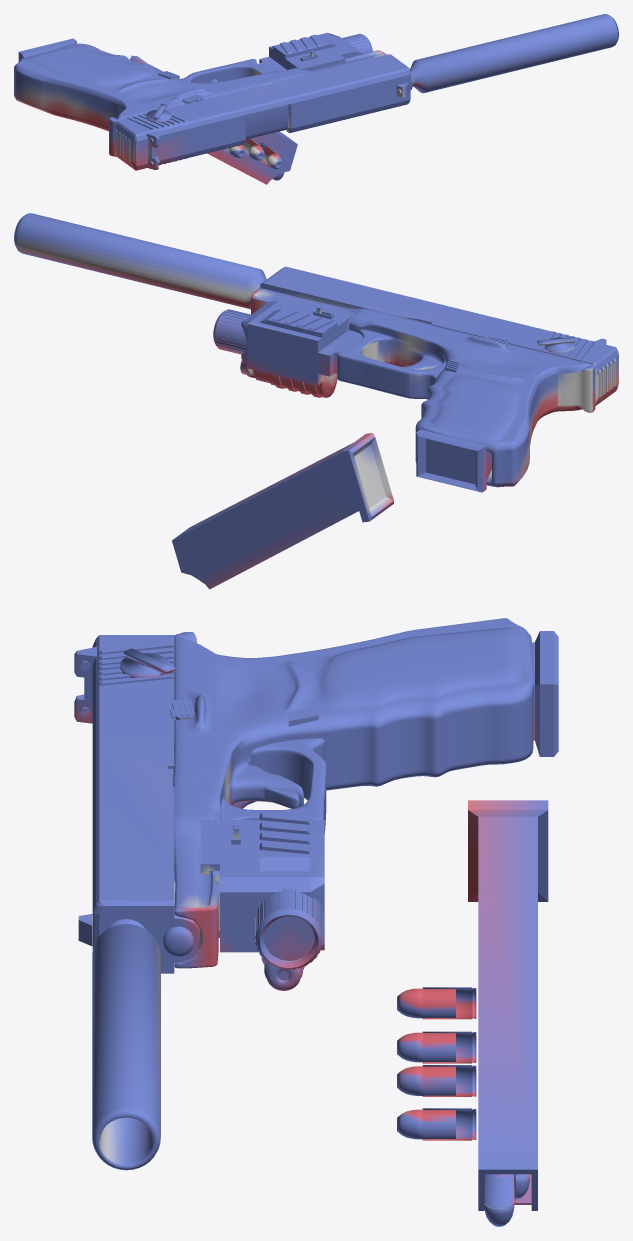
The picture shows the model from 3 angles, top to bottom: view 1: azimuth 30°, elevation 25°; view 2: azimuth 150°, elevation 25°; view 3: azimuth 270°, elevation 25°; orthographic projection. The views are drawn at different scales.
Parts seen in each view (by area): view 1: Cylinder.009_Cylinder.015; view 2: Cylinder.009_Cylinder.015; view 3: Cylinder.009_Cylinder.015.
Part boxes in pixels (x1,y1,x2,y2): Cylinder.009_Cylinder.015: [14, 14, 618, 184]; Cylinder.009_Cylinder.015: [14, 213, 618, 589]; Cylinder.009_Cylinder.015: [74, 618, 558, 1226].
Size of the model in its own units: 5.53 by 1.93 by 2.31.
